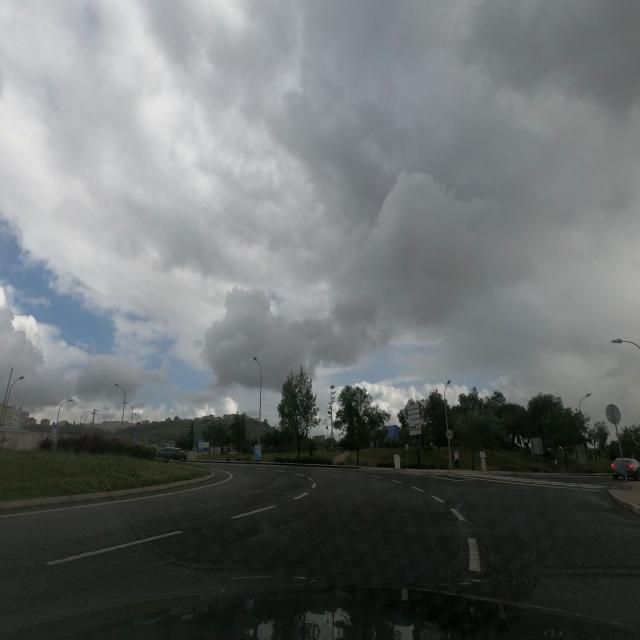car: (611, 457, 640, 481), (158, 446, 187, 461)
